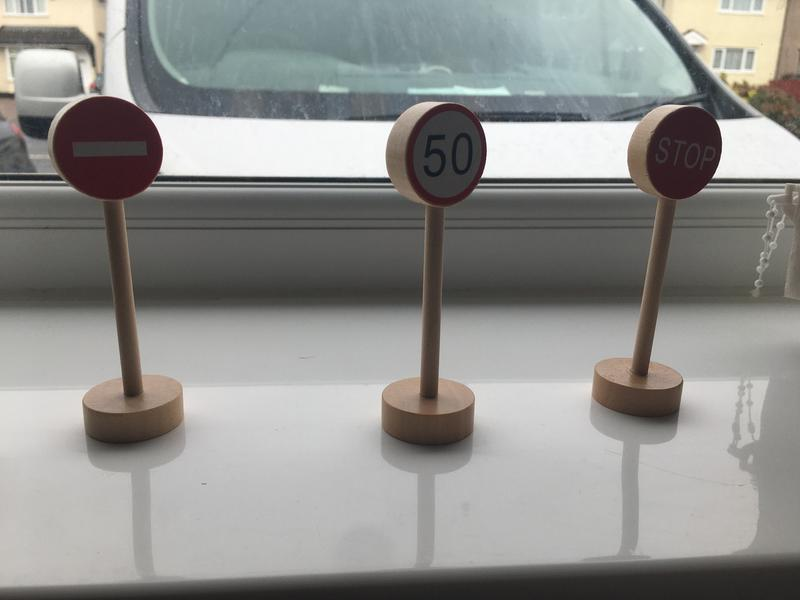Traffic_Sign_50: (406, 103, 487, 207)
Traffic_Sign_No_Entry: (52, 97, 162, 200)
Traffic_Sign_Stop: (647, 107, 720, 198)
